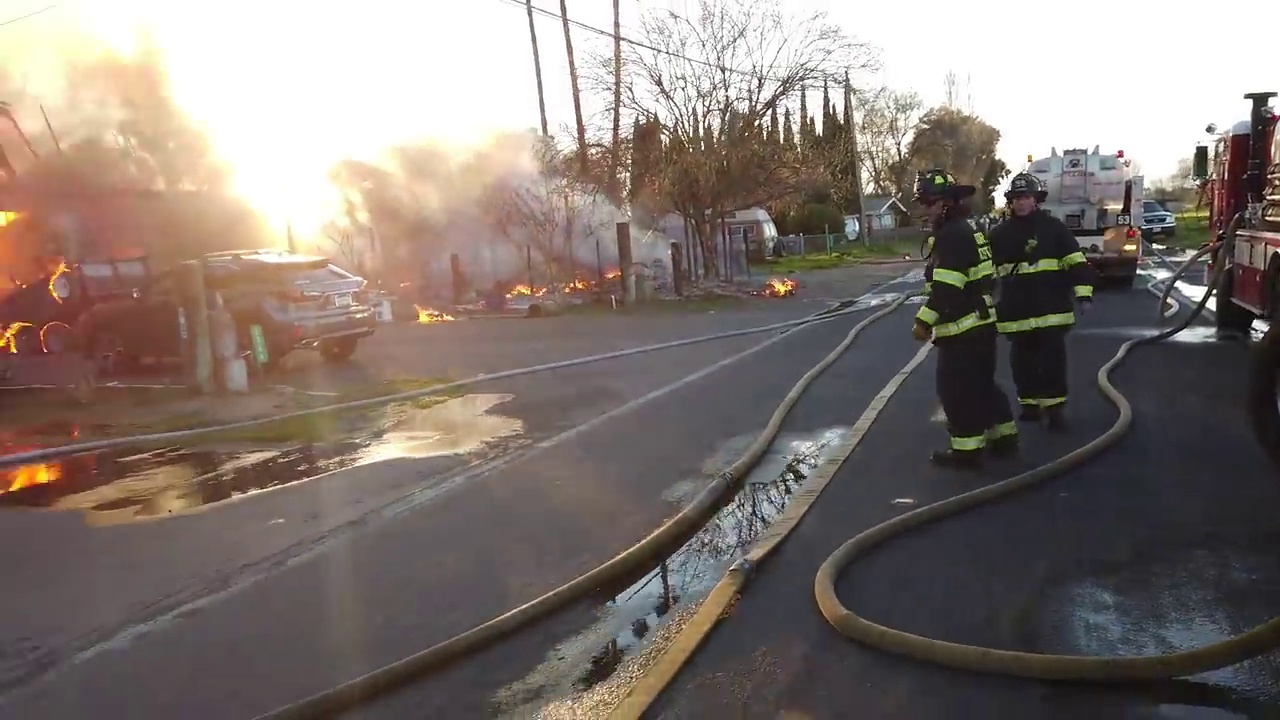fire: (0, 202, 87, 359), (0, 393, 77, 501), (508, 277, 588, 292), (246, 321, 271, 362), (757, 275, 798, 295), (413, 303, 455, 322), (606, 269, 619, 277)
smoke: (0, 2, 189, 220)
